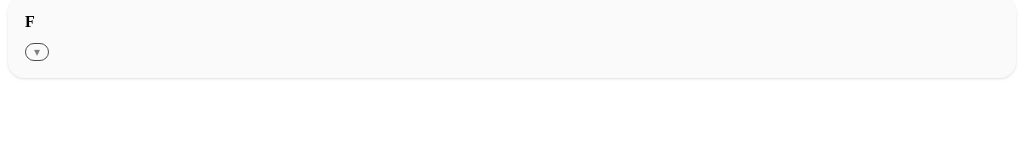
MaskedCards — expansão › aria-controls aponta para a região; recolhida oculta o conteúdo
Expected: the button "Interno" is not shown
Step 1. Click the button named "mostrar mais" → {"x": 37, "y": 52}, box [25,43,49,61]
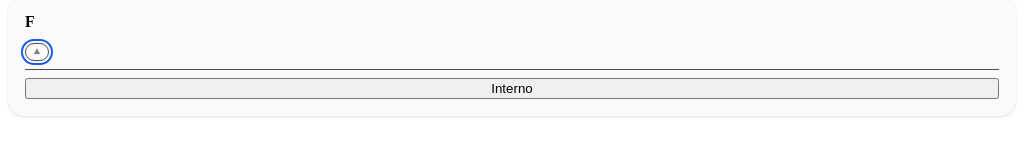
Now the button "Interno" is shown, box [25,78,999,99]
